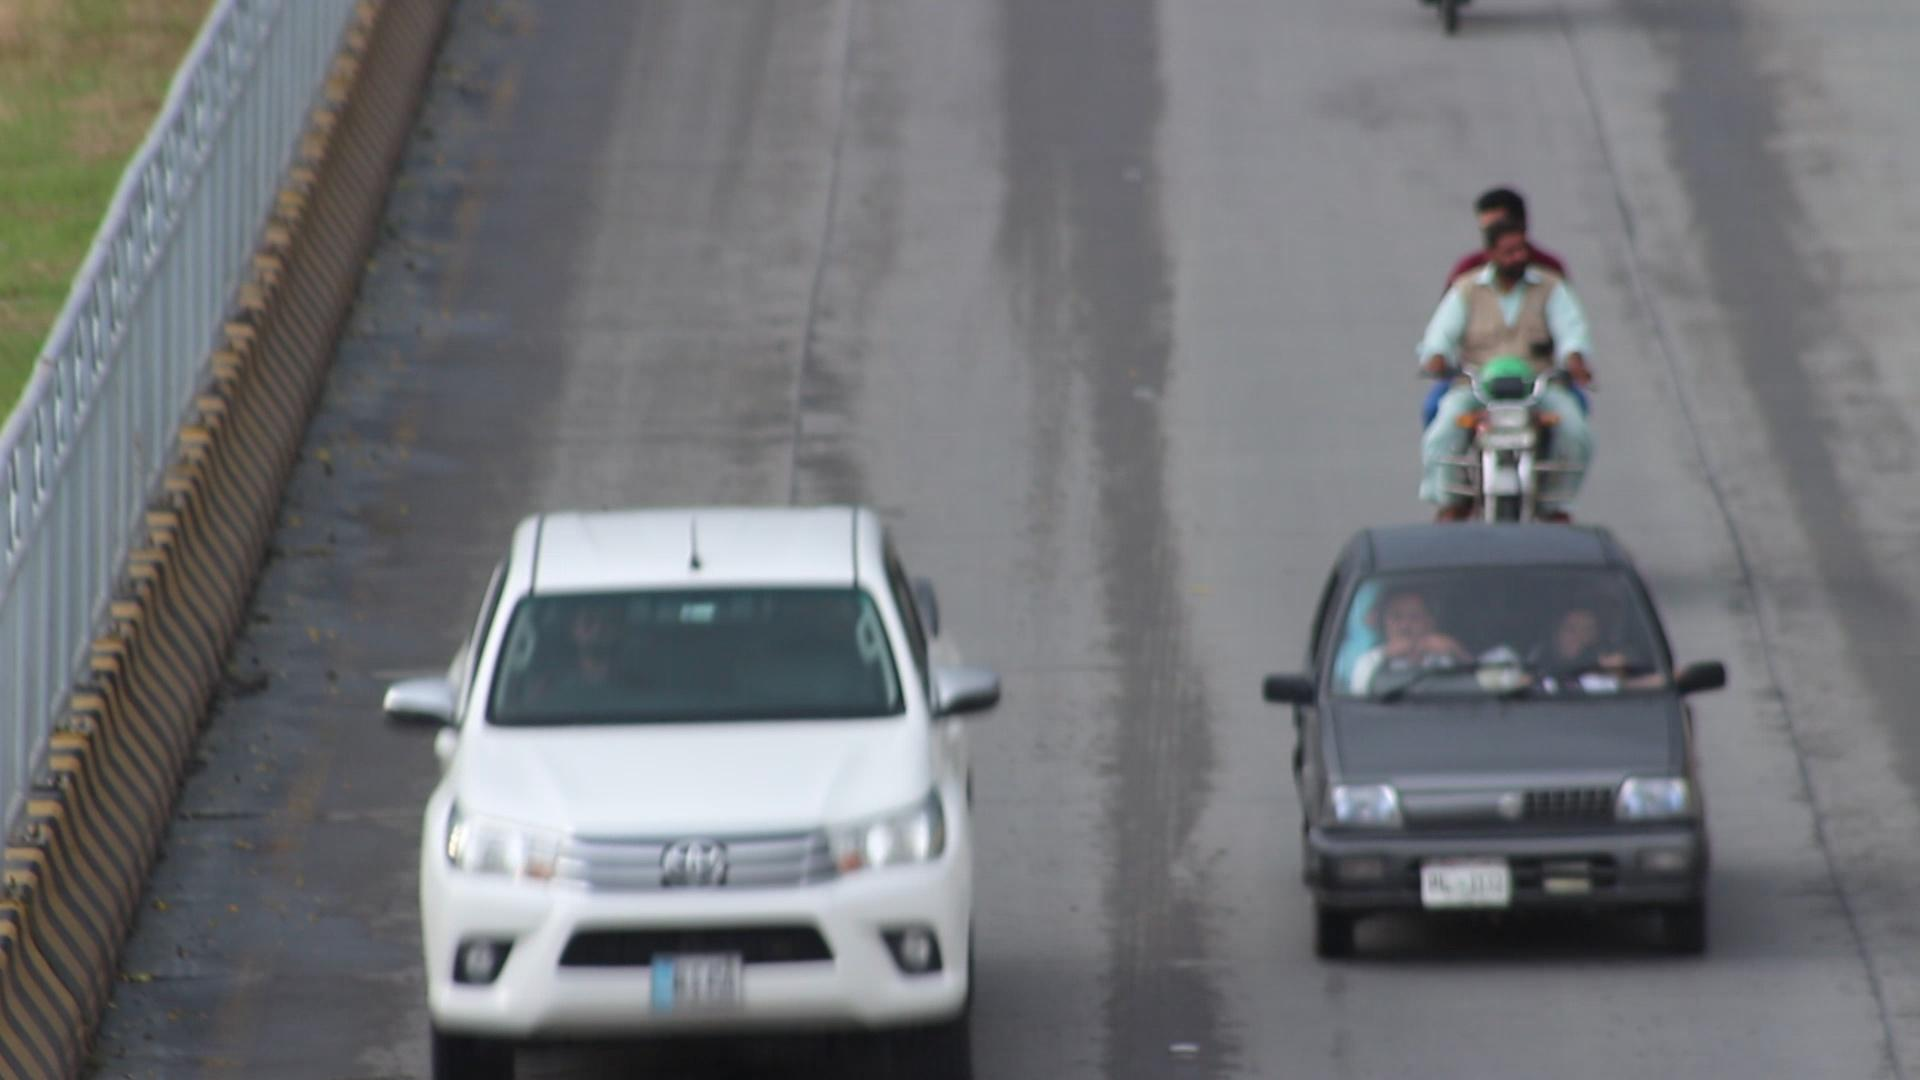windshield: (460, 560, 940, 733), (1313, 554, 1691, 709)
